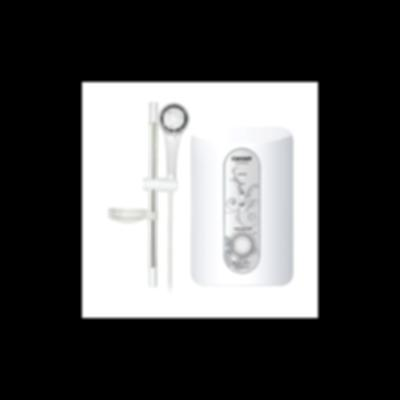Ducha: (106, 92, 305, 297)
